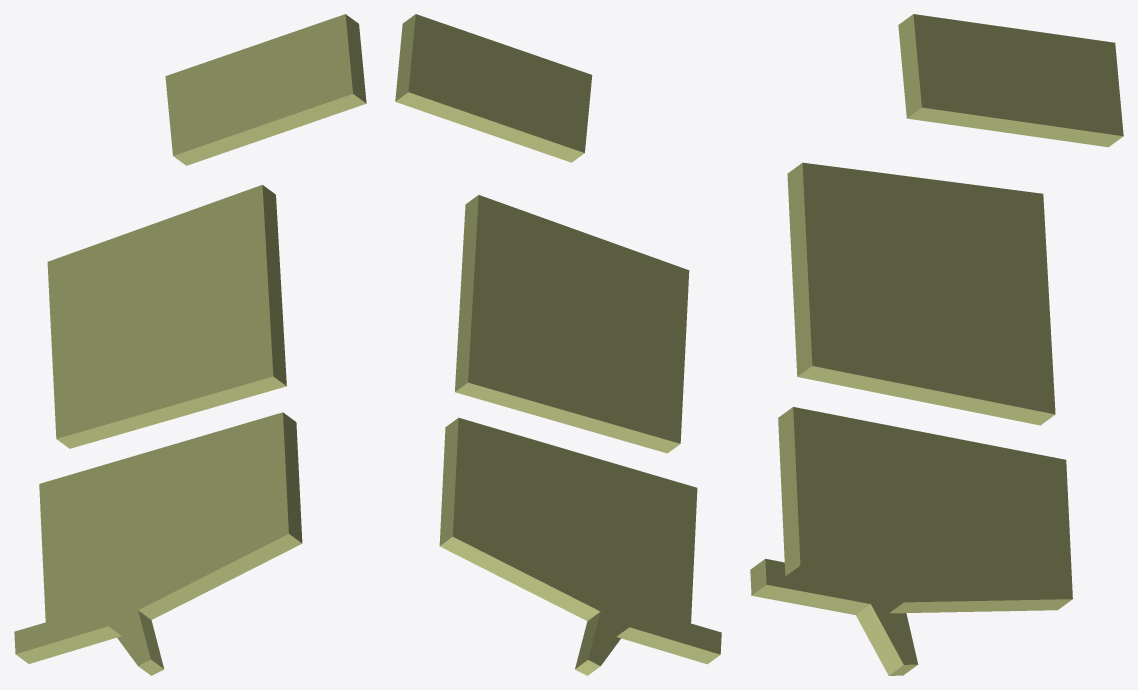
The picture shows the model from 3 angles, left to right: view 1: azimuth 30°, elevation 25°; view 2: azimuth 150°, elevation 25°; view 3: azimuth 330°, elevation 25°; orthographic projection. The views are drawn at different scales.
Parts seen in each view (by area): view 1: 0_3_0_1_2; view 2: 0_3_0_1_2; view 3: 0_3_0_1_2.
Boxes of the visible parts, x1,y1,x2,y2 form: 0_3_0_1_2: [14, 14, 366, 675]; 0_3_0_1_2: [395, 14, 721, 675]; 0_3_0_1_2: [750, 14, 1123, 675].
Bounding box in the file's own units: 84.56 × 150 × 10.2.
